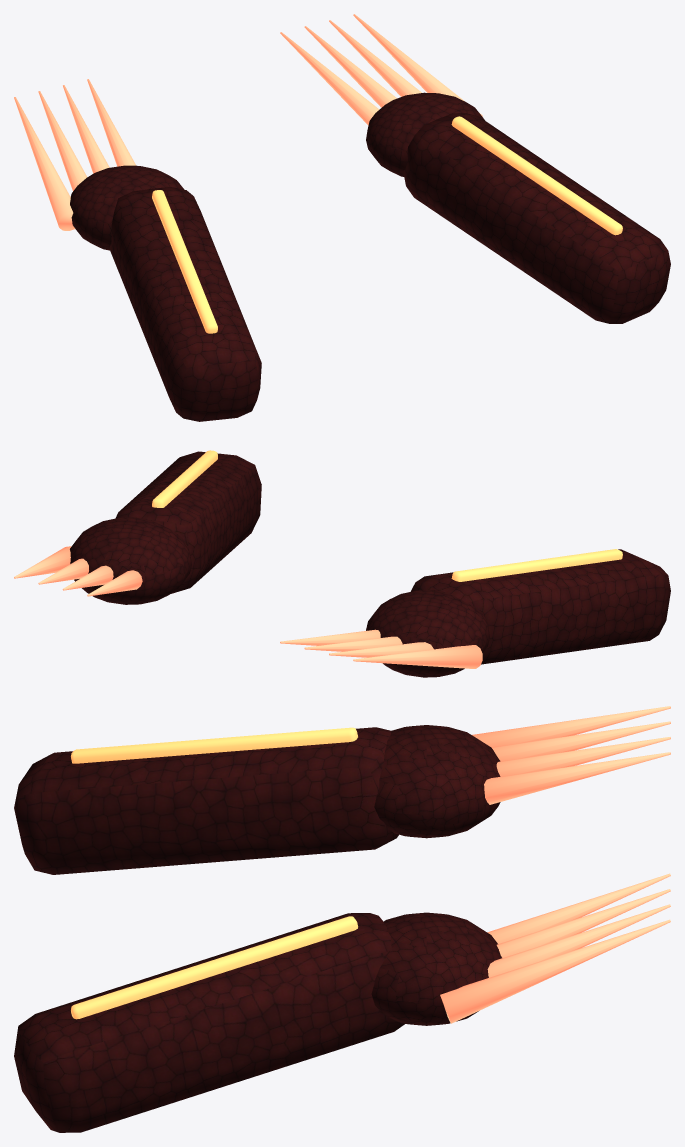
Rendered from vm_monster_claws.glb.
3 renders of one model, top to bottom at view 1: azimuth 30°, elevation 25°; view 2: azimuth 150°, elevation 25°; view 3: azimuth 270°, elevation 25°, orthographic. The views are drawn at different scales.
Parts seen in each view (by area): view 1: ForearmR, ForearmL, PalmR, PalmL, VeinRidgeR, VeinRidgeL, TalonL0, TalonR0, TalonR3, TalonR1, TalonL1, TalonR2 (+2 smaller); view 2: ForearmL, ForearmR, PalmR, PalmL, VeinRidgeL, TalonL0, VeinRidgeR, TalonL1, TalonL3, TalonR3, TalonL2, TalonR0 (+2 smaller); view 3: ForearmR, ForearmL, PalmL, PalmR, VeinRidgeR, TalonR3, VeinRidgeL, TalonL3, TalonL0, TalonR2, TalonR0, TalonL1 (+2 smaller).
Part boxes in pixels (x1=…): ForearmR: x1=403, y1=113, x2=670, y2=323; ForearmL: x1=109, y1=187, x2=261, y2=421; PalmR: x1=366, y1=92, x2=484, y2=176; PalmL: x1=70, y1=165, x2=183, y2=250; VeinRidgeR: x1=451, y1=116, x2=622, y2=235; VeinRidgeL: x1=152, y1=190, x2=217, y2=333; TalonL0: x1=14, y1=97, x2=75, y2=230; TalonR0: x1=280, y1=32, x2=379, y2=125; TalonR3: x1=353, y1=14, x2=482, y2=116; TalonR1: x1=304, y1=26, x2=396, y2=107; TalonL1: x1=38, y1=91, x2=87, y2=190; TalonR2: x1=329, y1=20, x2=421, y2=96; ForearmL: x1=410, y1=549, x2=670, y2=664; ForearmR: x1=115, y1=451, x2=261, y2=593; PalmR: x1=70, y1=517, x2=191, y2=604; PalmL: x1=366, y1=590, x2=489, y2=677; VeinRidgeL: x1=451, y1=549, x2=622, y2=581; TalonL0: x1=353, y1=645, x2=482, y2=668; VeinRidgeR: x1=152, y1=450, x2=217, y2=507; TalonL1: x1=329, y1=642, x2=433, y2=657; TalonL3: x1=280, y1=629, x2=380, y2=645; TalonR3: x1=14, y1=546, x2=71, y2=578; TalonL2: x1=304, y1=636, x2=402, y2=651; TalonR0: x1=87, y1=570, x2=142, y2=596; ForearmR: x1=14, y1=913, x2=404, y2=1132; ForearmL: x1=14, y1=727, x2=398, y2=874; PalmL: x1=374, y1=725, x2=500, y2=838; PalmR: x1=371, y1=912, x2=501, y2=1025; VeinRidgeR: x1=71, y1=916, x2=358, y2=1019; TalonR3: x1=440, y1=919, x2=670, y2=1023; VeinRidgeL: x1=71, y1=727, x2=357, y2=763; TalonL3: x1=484, y1=752, x2=670, y2=804; TalonL0: x1=472, y1=706, x2=670, y2=747; TalonR2: x1=487, y1=904, x2=670, y2=977; TalonR0: x1=487, y1=873, x2=670, y2=943; TalonL1: x1=491, y1=721, x2=670, y2=761.
Bounding box in the file's own units: 0.7266 × 0.1964 × 0.651.
Materials: 3 (1 with a texture image).
